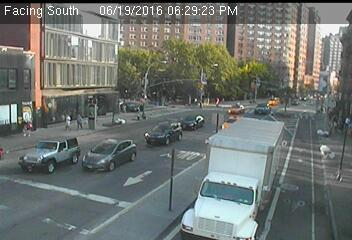neg: (161, 185, 184, 215), (129, 125, 149, 152), (58, 175, 77, 201), (303, 50, 322, 74), (206, 63, 223, 86), (48, 41, 65, 64), (283, 161, 300, 183), (115, 186, 132, 208), (275, 102, 291, 124), (131, 22, 146, 43), (165, 140, 180, 160), (219, 113, 233, 132), (174, 91, 188, 110), (250, 158, 264, 176), (289, 195, 303, 213), (283, 60, 296, 77), (320, 142, 333, 159), (257, 32, 270, 48), (162, 63, 174, 80), (93, 105, 105, 120), (94, 69, 105, 84), (225, 184, 236, 199), (109, 93, 119, 107), (255, 82, 263, 93)
pos: (20, 121, 34, 139), (62, 113, 74, 129), (75, 112, 87, 127)
